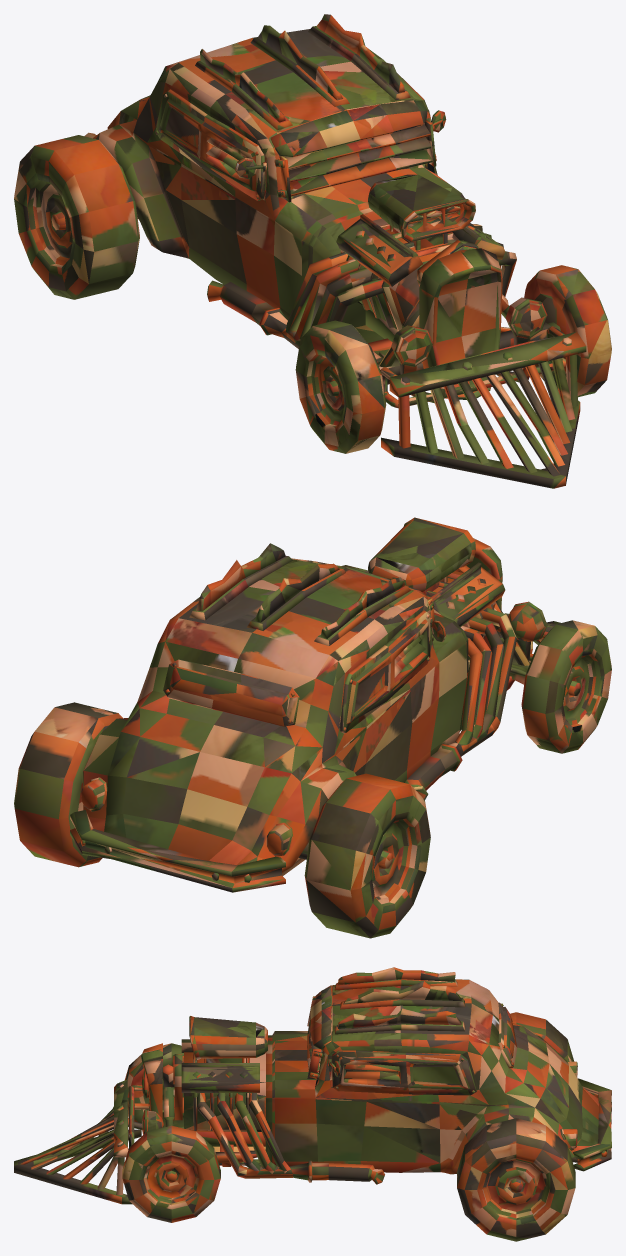
Rendered from HotRod_new.fbx.
The picture shows the model from 3 angles, top to bottom: view 1: azimuth 30°, elevation 25°; view 2: azimuth 150°, elevation 25°; view 3: azimuth 270°, elevation 25°; orthographic projection. The views are drawn at different scales.
Visible parts, largest first — view 1: car, wheel_4, wheel_1, wheel_2; view 2: car, wheel_4, wheel_3, wheel_1; view 3: car, wheel_3, wheel_2, wheel_1, wheel_4.
Boxes of the visible parts, <box> form: car: <box>84,14,586,488</box>; wheel_4: <box>14,135,139,299</box>; wheel_1: <box>295,320,386,453</box>; wheel_2: <box>524,265,611,397</box>; car: <box>70,517,560,892</box>; wheel_4: <box>304,773,430,938</box>; wheel_3: <box>14,702,122,867</box>; wheel_1: <box>521,620,611,753</box>; car: <box>14,967,611,1204</box>; wheel_3: <box>457,1118,575,1241</box>; wheel_2: <box>122,1125,220,1222</box>; wheel_1: <box>125,1043,183,1123</box>; wheel_4: <box>510,1012,574,1061</box>.
Size of the model in its own units: 99.88 by 73.86 by 200.
